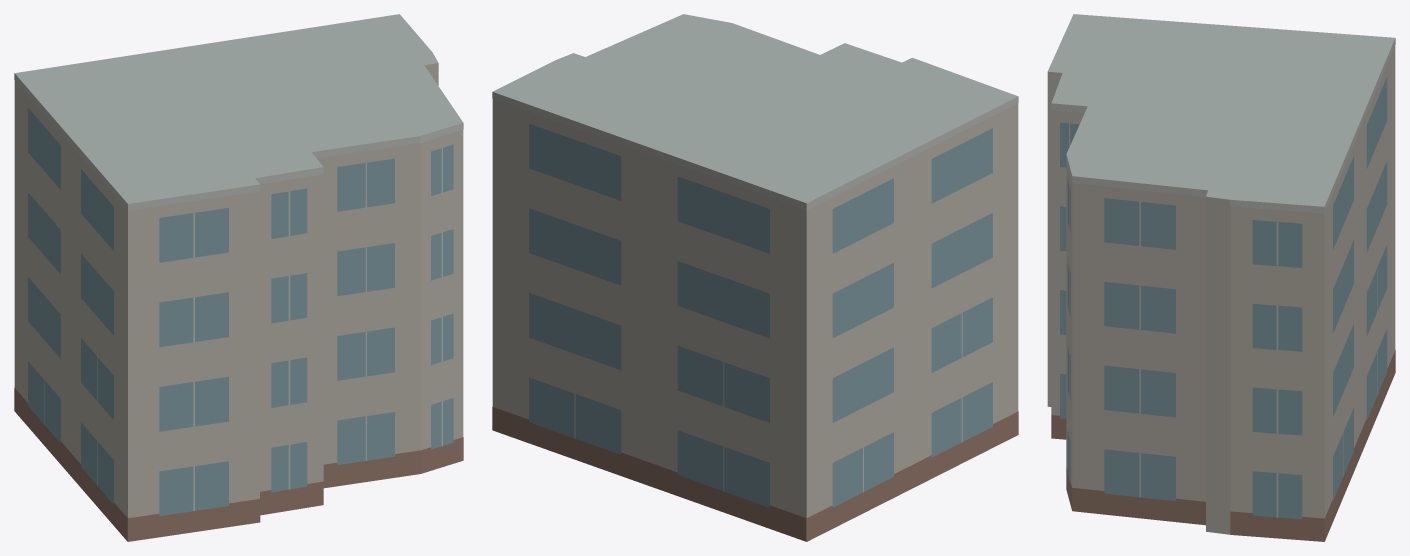
File: survey-upis-32525057.glb
3 renders of one model, left to right at view 1: azimuth 30°, elevation 25°; view 2: azimuth 150°, elevation 25°; view 3: azimuth 270°, elevation 25°, orthographic.
Parts seen in each view (by area): view 1: survey-upis-32525057.tmp; view 2: survey-upis-32525057.tmp; view 3: survey-upis-32525057.tmp.
Boxes of the visible parts, <box> form: survey-upis-32525057.tmp: <box>14,14,463,541</box>; survey-upis-32525057.tmp: <box>492,14,1018,541</box>; survey-upis-32525057.tmp: <box>1047,14,1395,541</box>.
Size of the model in its own units: 14.76 by 11.95 by 11.26.
